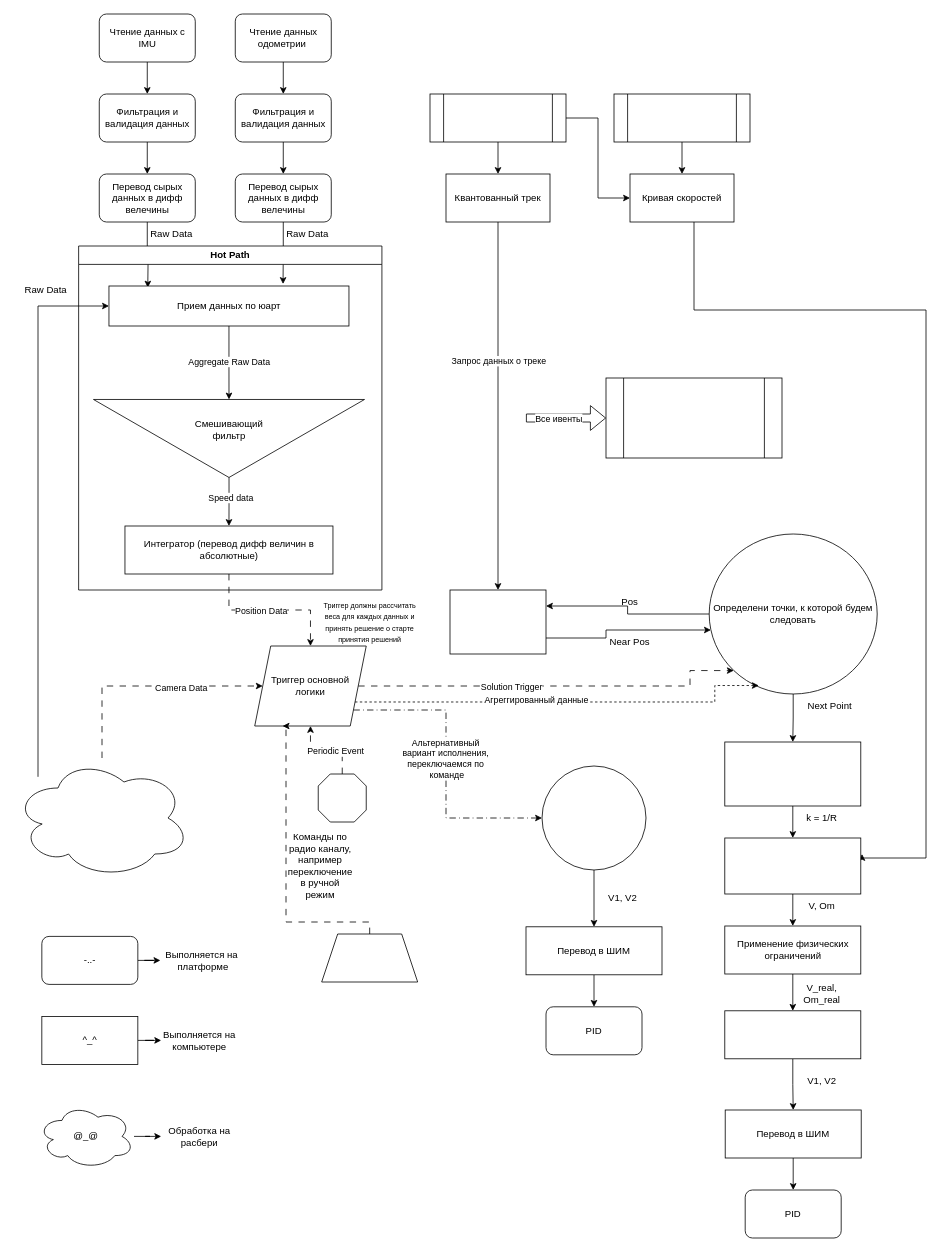
Image size: 946x1252. Some labels were removed from this diagram. Each missing label, with the centre of its shape:
"Clock" goes at pixel 341 797.
"RPI" goes at pixel 101 817.
"Логгер и/или визуализатор" goes at pixel 693 417.
"Ограничения скоростей из ГУИ" goes at pixel 681 117.
"Определение ближайшей точки по треку" goes at pixel 497 621.
"Определение кривизны окружности, по которой можно добраться до заданной точки" goes at pixel 792 773.
"Перевод в скорости (угловую и радиальную)" goes at pixel 792 865.
"Перевод в скорости левой и правой гусеницы" goes at pixel 792 1034.
"Радио" goes at pixel 369 957.
"Ручной режим управления" goes at pixel 593 817.
"Трек в ГУИ" goes at pixel 497 117.
